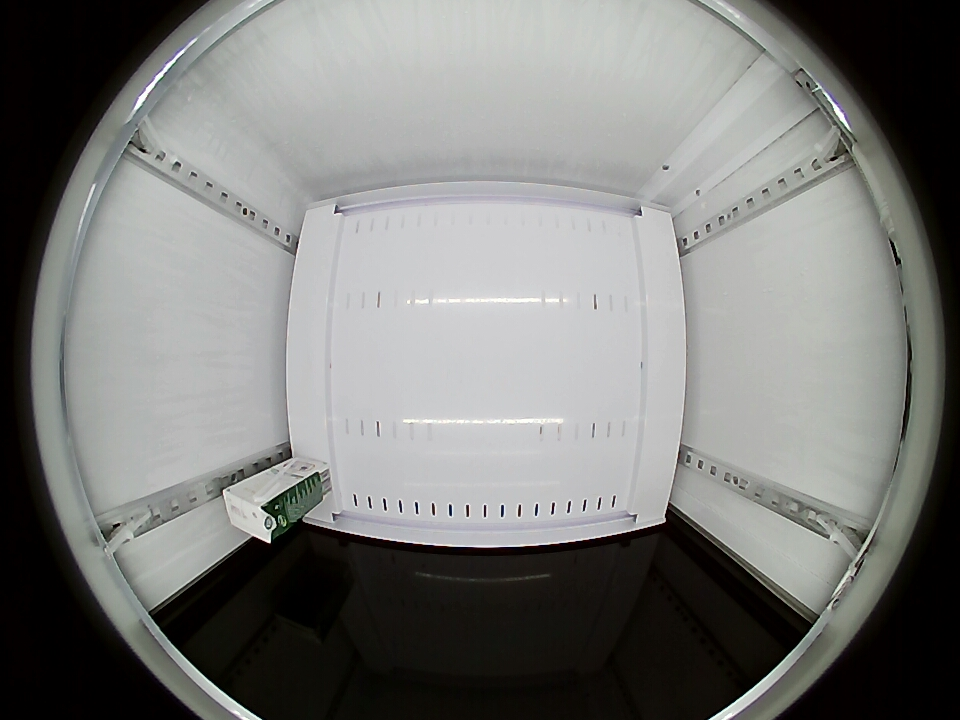jindian: (222, 479, 289, 544)
